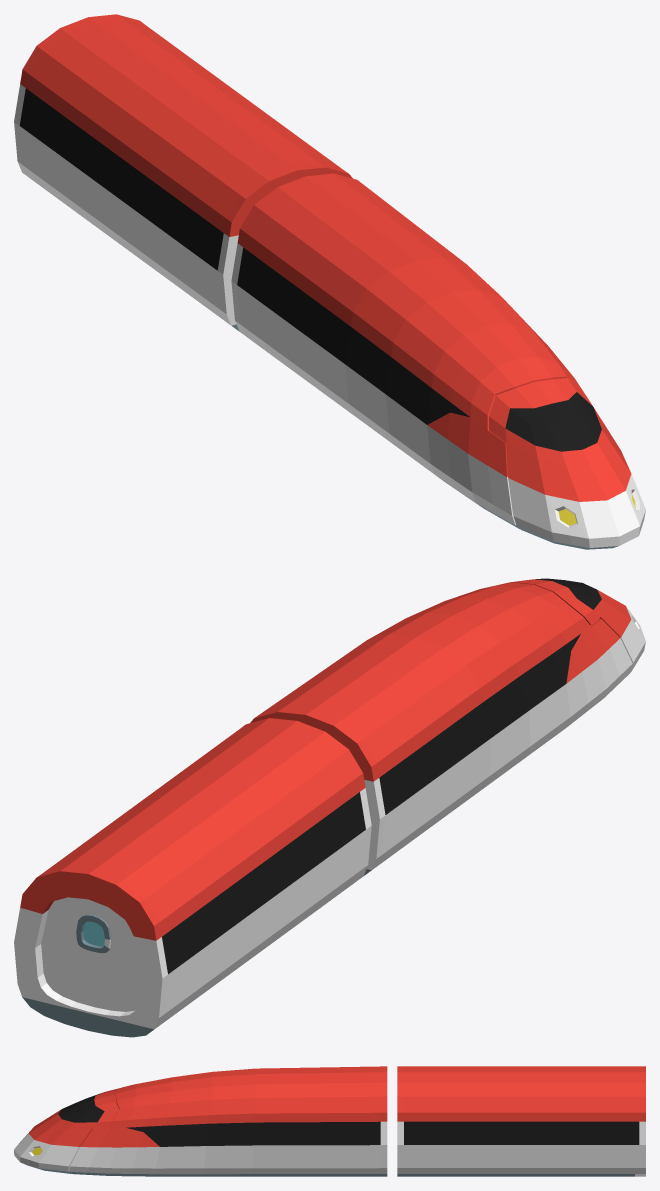
File: Bullet_Train_01.obj
3 renders of one model, top to bottom at view 1: azimuth 30°, elevation 25°; view 2: azimuth 150°, elevation 25°; view 3: azimuth 270°, elevation 25°, orthographic. The views are drawn at different scales.
Parts seen in each view (by area): view 1: Cube.024_Cube.027; view 2: Cube.024_Cube.027; view 3: Cube.024_Cube.027.
Boxes of the visible parts, x1,y1,x2,y2 form: Cube.024_Cube.027: (14, 14, 645, 549); Cube.024_Cube.027: (14, 578, 645, 1037); Cube.024_Cube.027: (14, 1066, 645, 1176).
Size of the model in its own units: 2.78 by 2.81 by 17.26.
